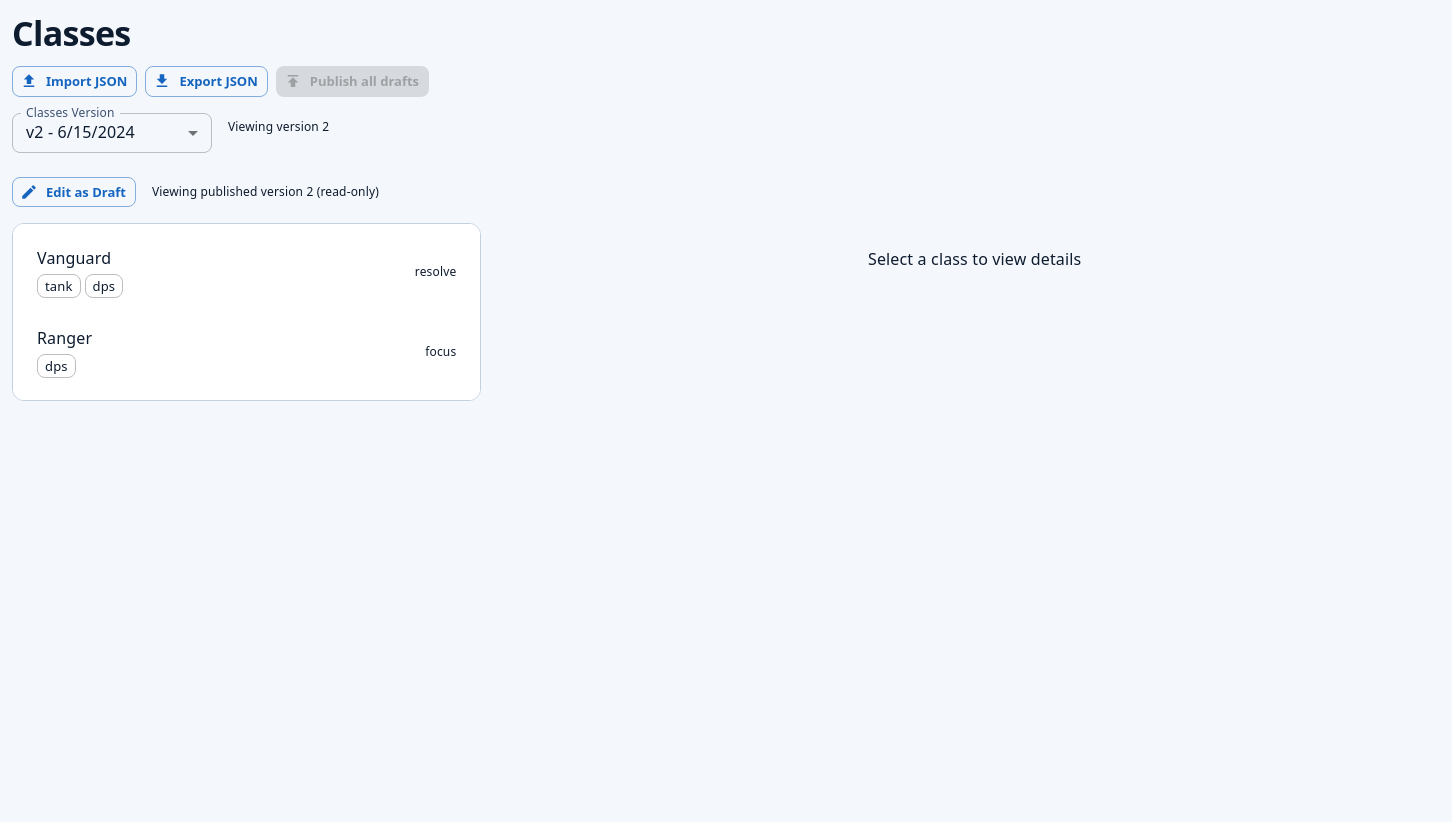
CatalogPage › shows class details when class is selected
This screenshot has width=1452, height=822.
Click the dropdown at coordinates (80, 132), box [26, 121, 135, 143]
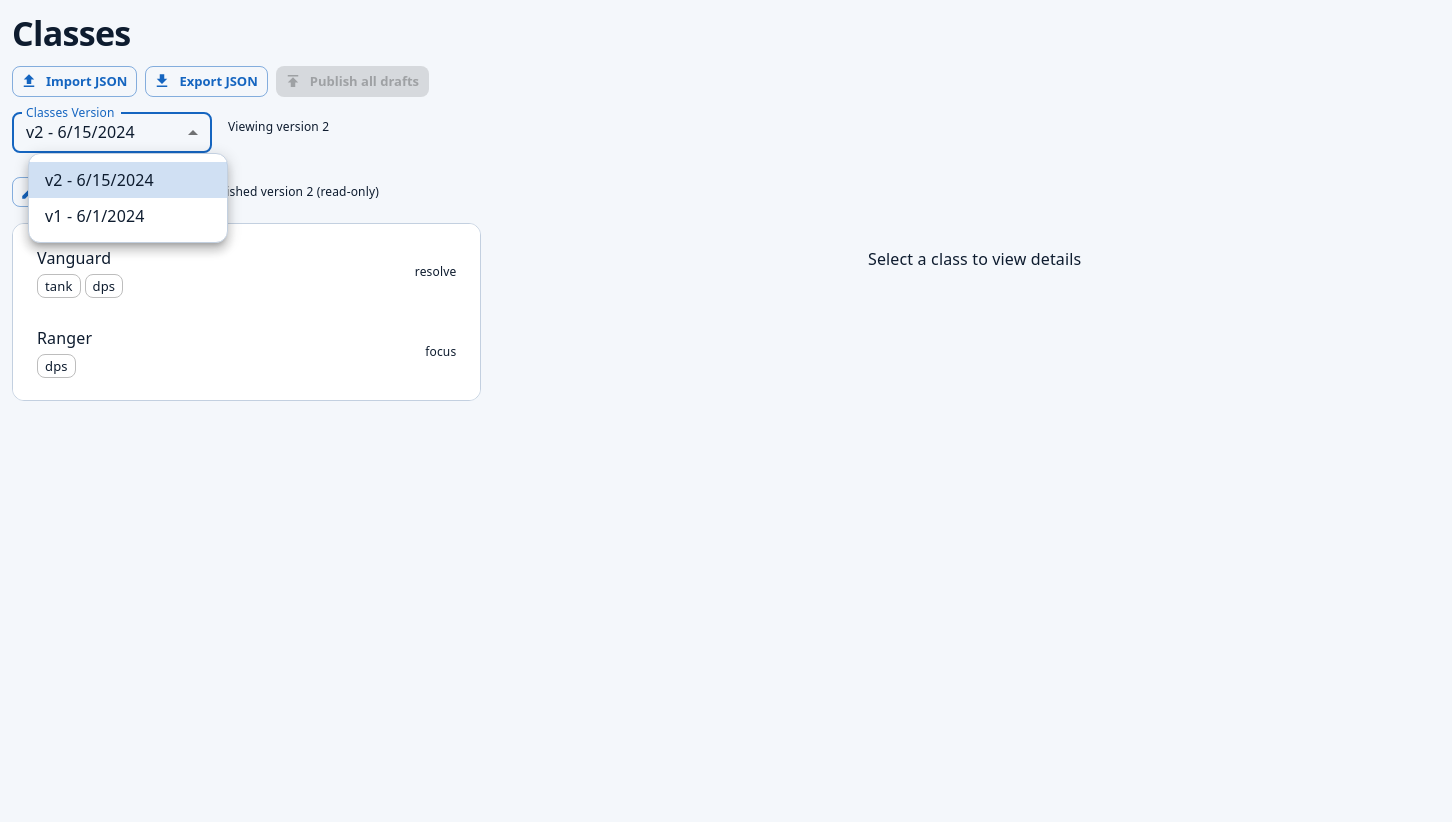
Click the option "v2 - 6/15/2024" at coordinates (128, 180), box [29, 162, 227, 198]
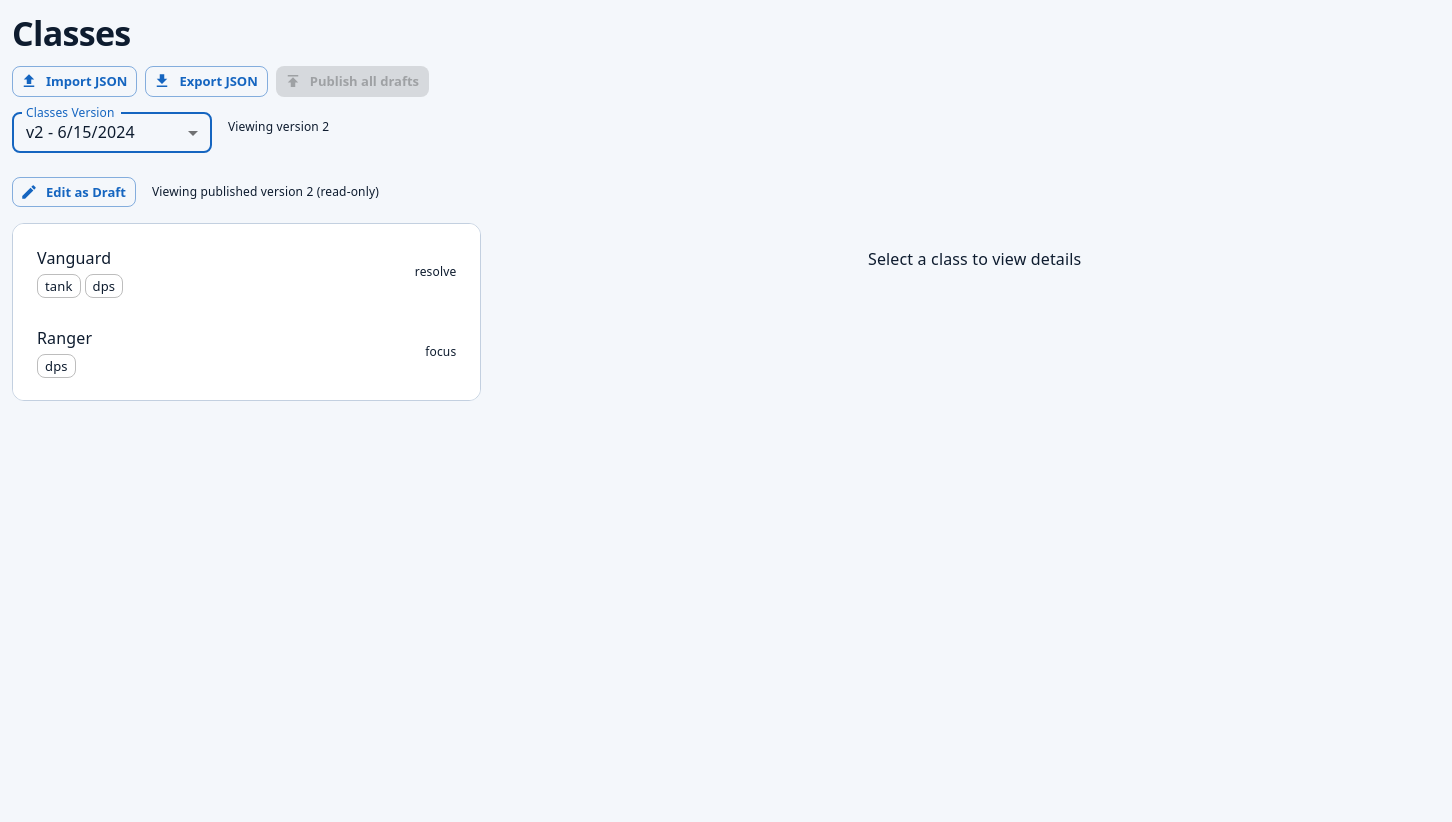
Click the text "Vanguard" at coordinates (74, 258), box [37, 247, 111, 269]
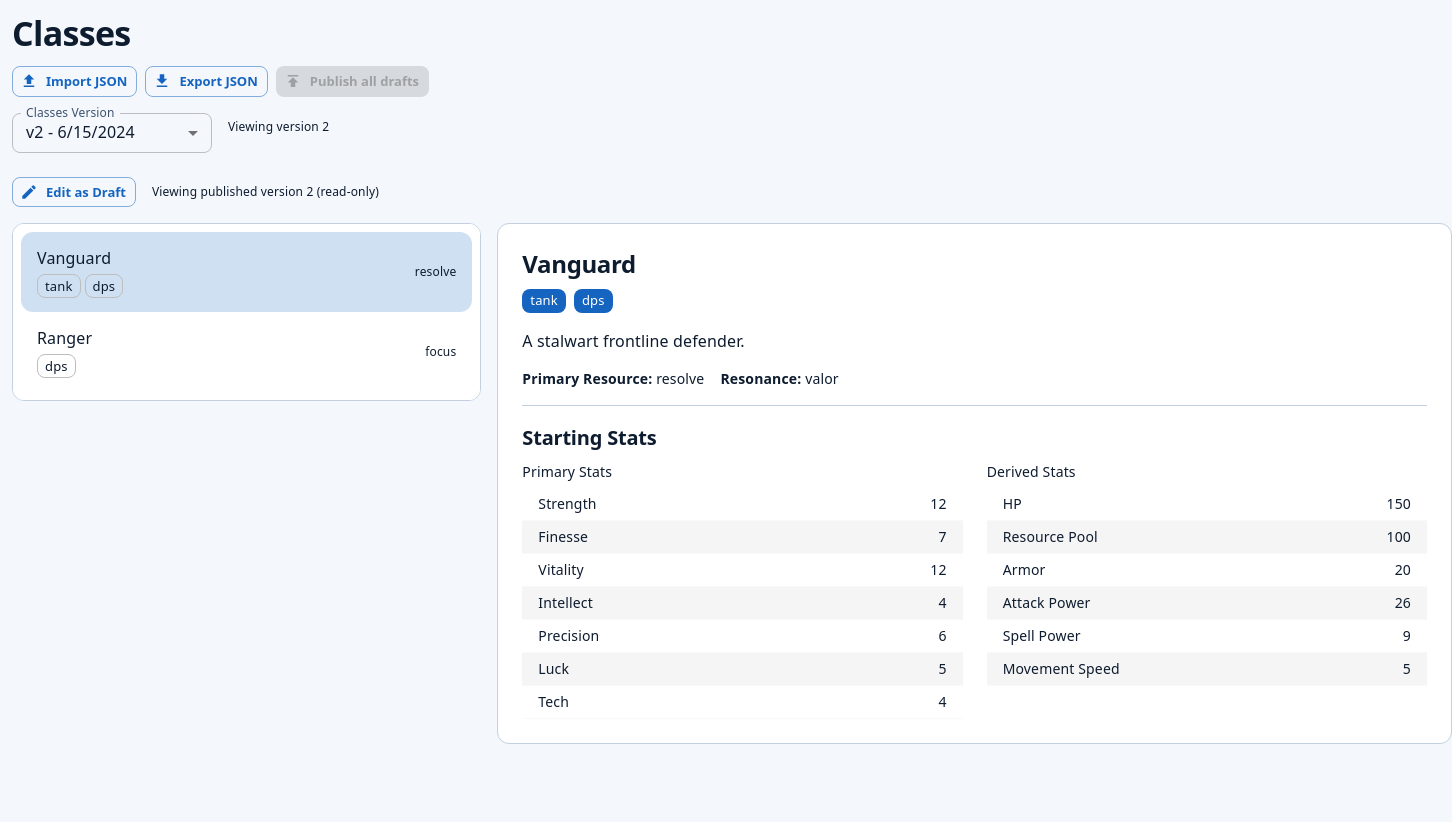
Result: the heading "Vanguard" is shown at [522, 247, 636, 280]
Result: the text "A stalwart frontline defender." is shown at [522, 330, 745, 352]
